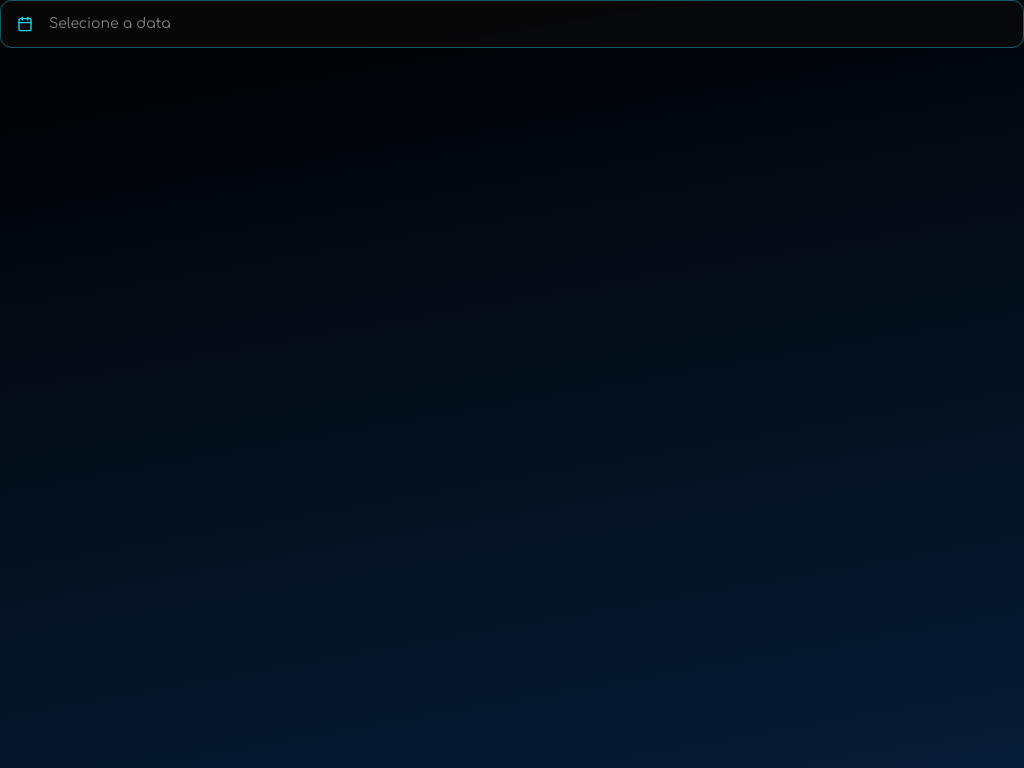
Scenario: tour date picker cruise legend › shows separate accessible markers for today, the selected date, and cruise dates
The width and height of the screenshot is (1024, 768).
What coordinates should you click on to do the following:
click the button "Selecione a data"
I would click on:
 (110, 24)
Its box is x1=0 y1=0 x2=1023 y2=48.
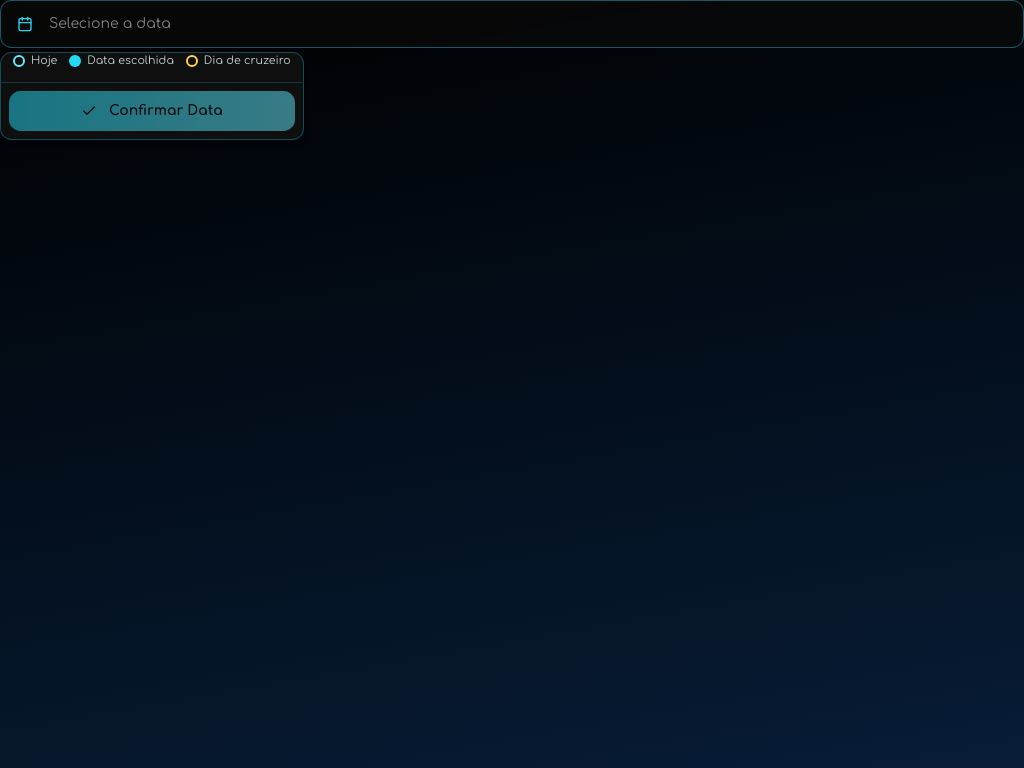
Result: the element named "Legenda do calendário" shows "Hoje" at x1=31 y1=54 x2=57 y2=67
Result: the element named "Legenda do calendário" shows "Data escolhida" at x1=87 y1=54 x2=174 y2=67
Result: the element named "Legenda do calendário" shows "Dia de cruzeiro" at x1=204 y1=54 x2=291 y2=67
